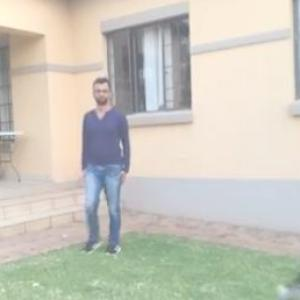follow: (91, 87, 144, 247)
